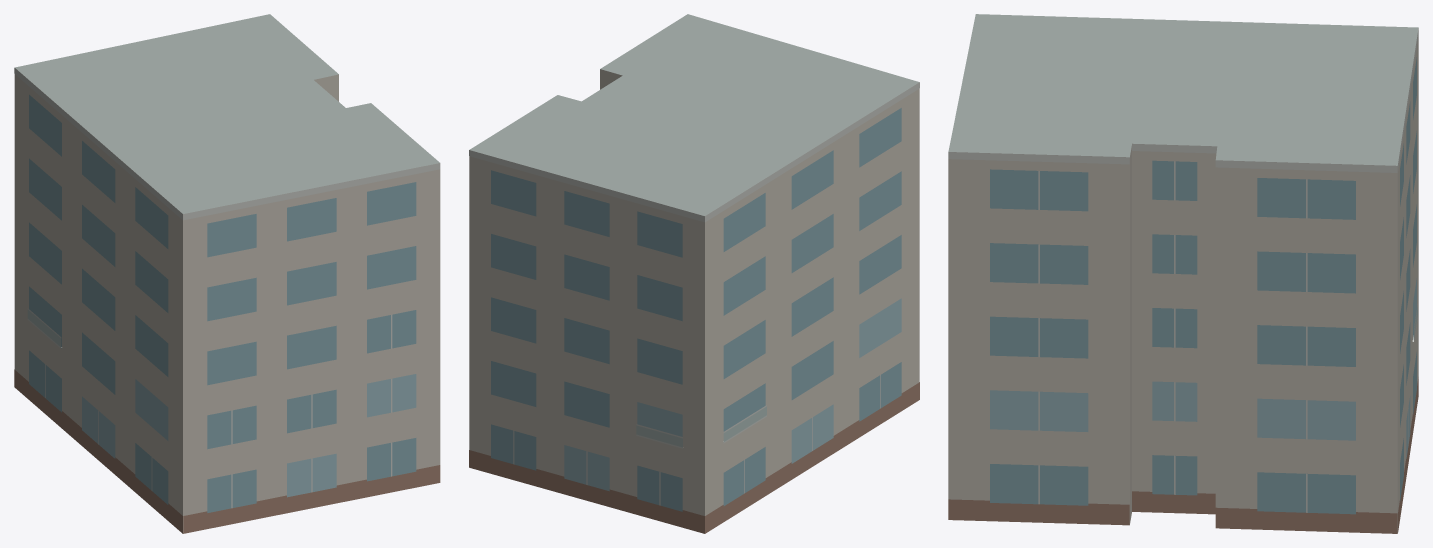
The model's file is survey-upis-32659243.glb.
3 views of the same model, side by side, from view 1: azimuth 30°, elevation 25°; view 2: azimuth 150°, elevation 25°; view 3: azimuth 270°, elevation 25° (orthographic). The views are drawn at different scales.
Visible parts, largest first — view 1: survey-upis-32659243.tmp; view 2: survey-upis-32659243.tmp; view 3: survey-upis-32659243.tmp.
Boxes of the visible parts, x1,y1,x2,y2 form: survey-upis-32659243.tmp: (14, 14, 440, 533); survey-upis-32659243.tmp: (469, 14, 919, 533); survey-upis-32659243.tmp: (948, 14, 1418, 533).
Bounding box in the file's own units: 11.07 × 12.5 × 14.49.
